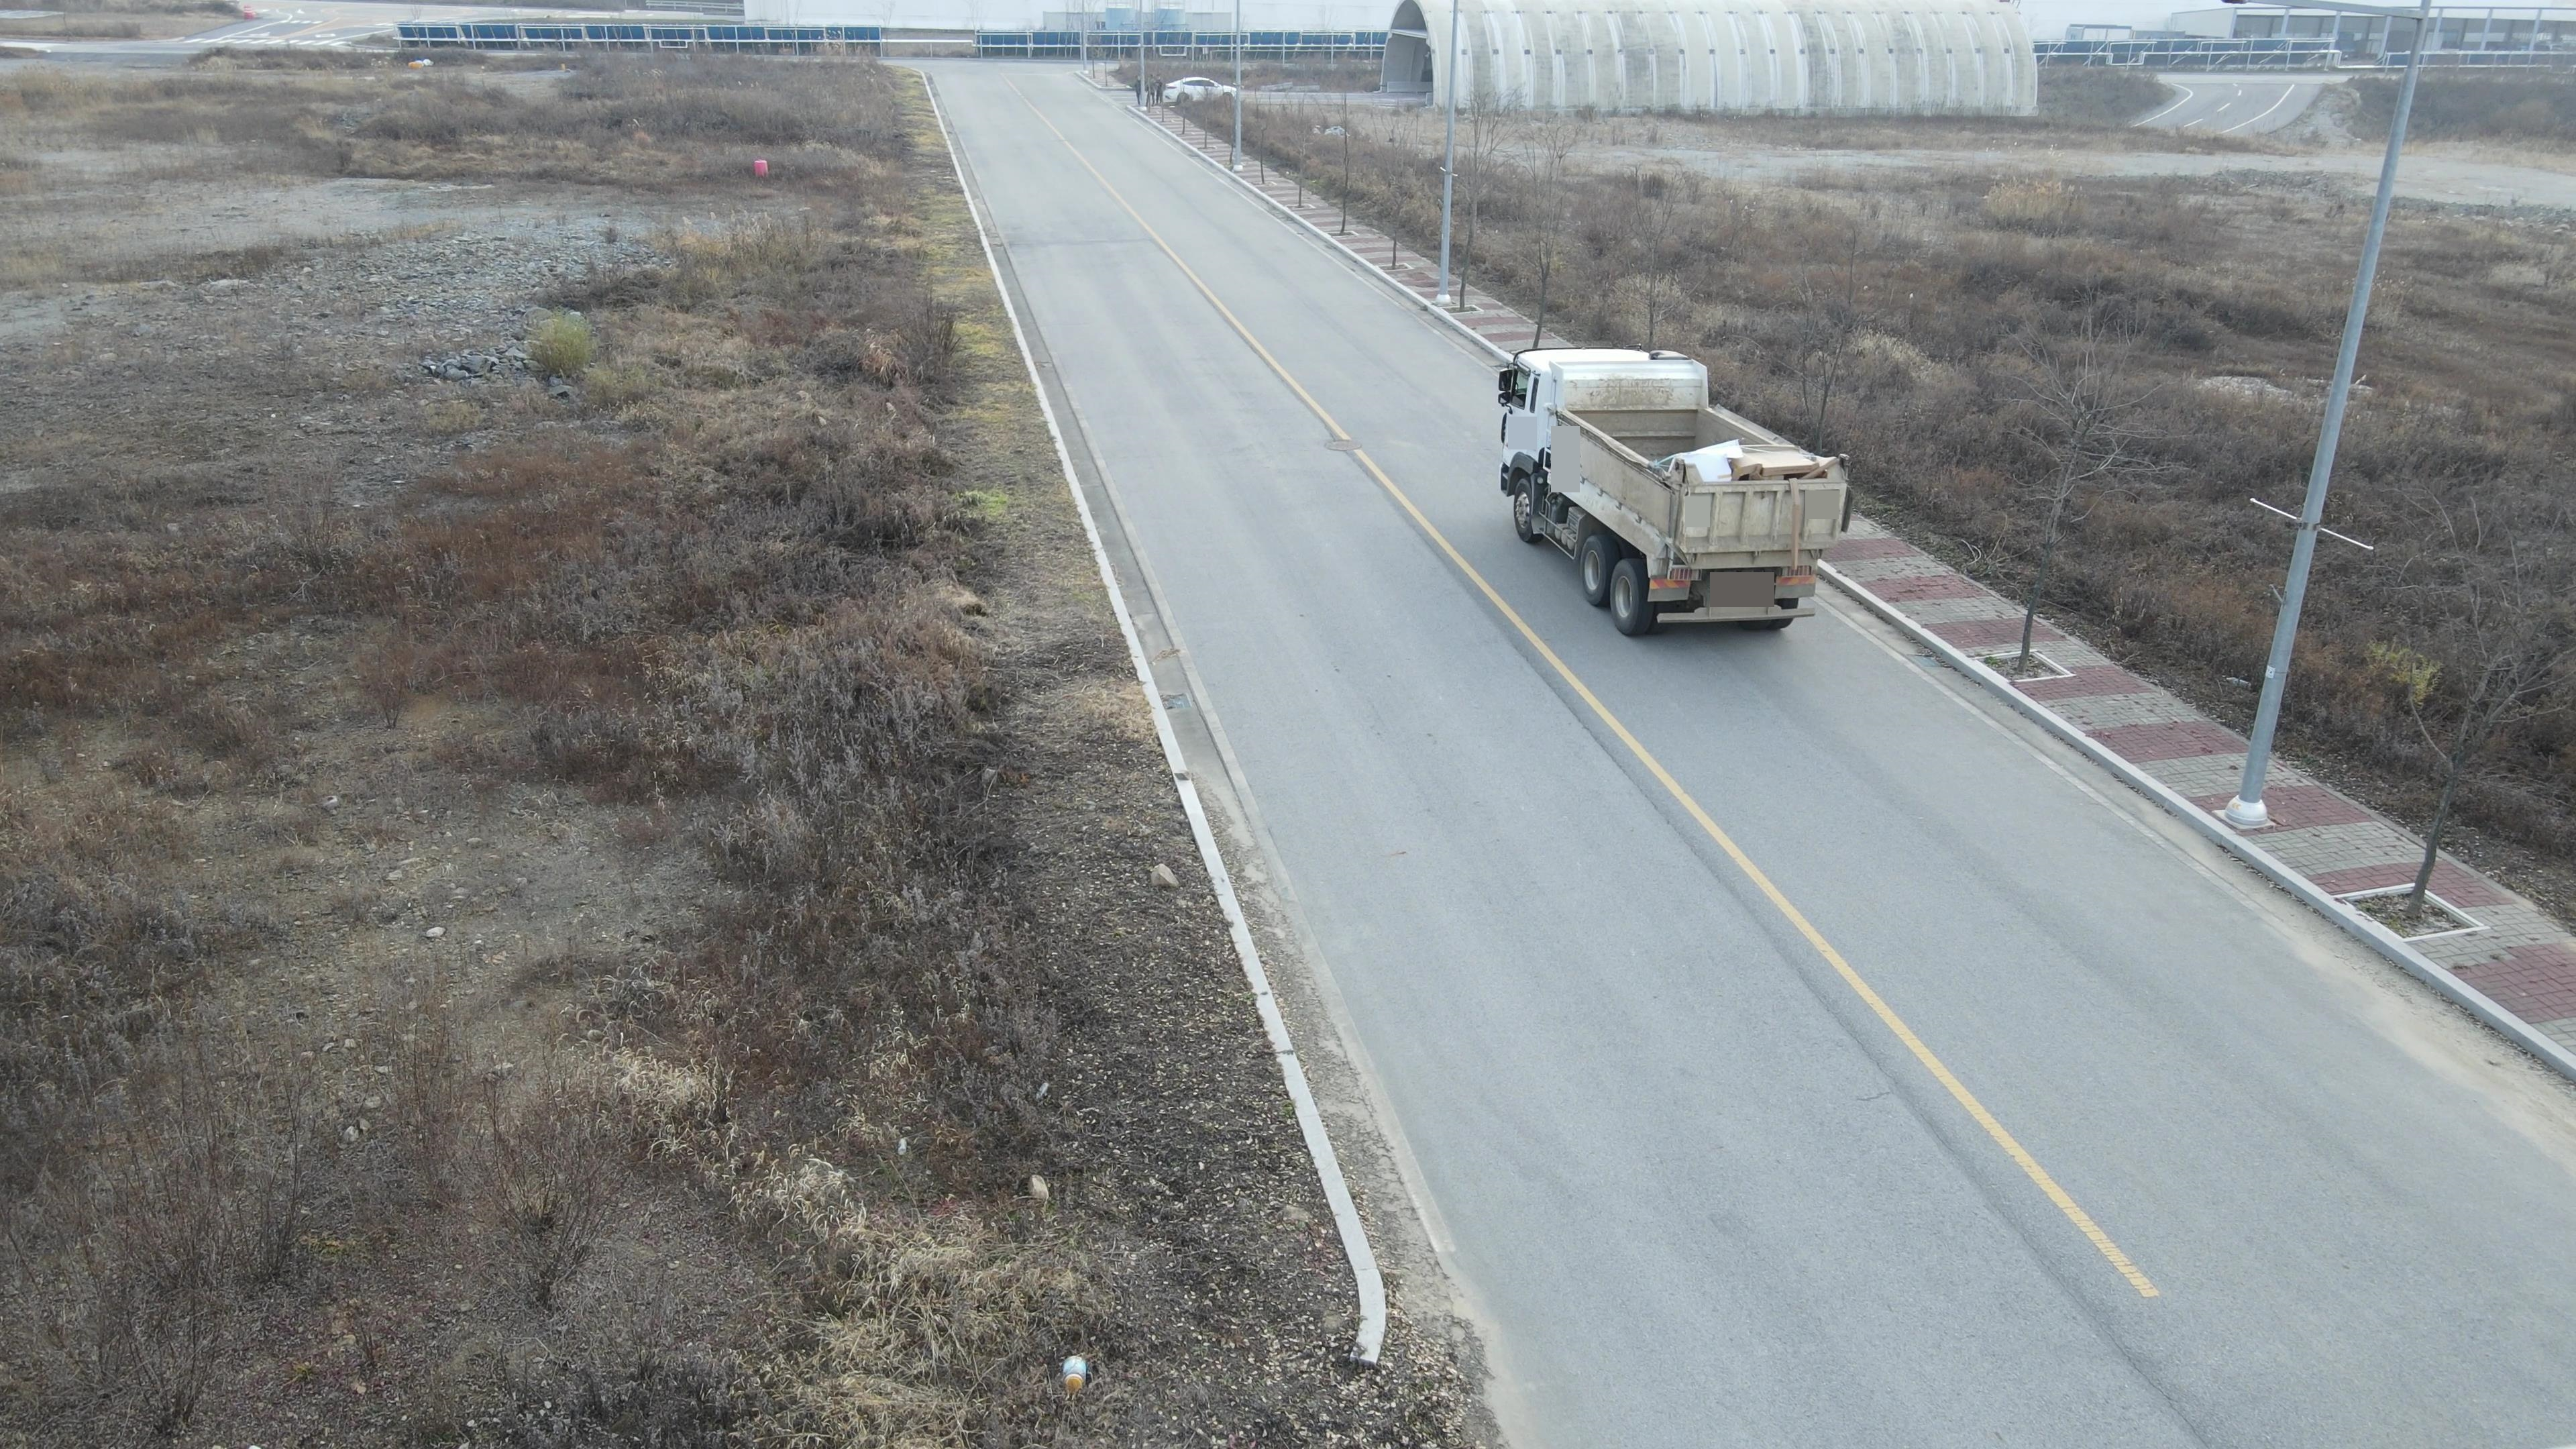불법차량: (1498, 343, 1853, 637)
